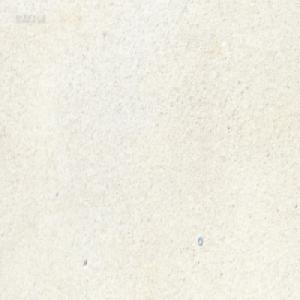Washer: (197, 236, 202, 246)
